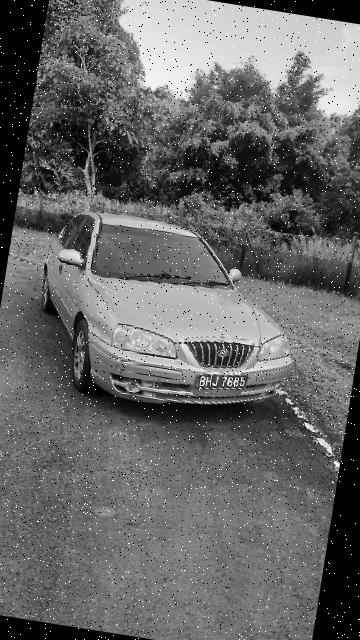License_Plate: (193, 369, 249, 396)
car: (22, 202, 323, 434)
